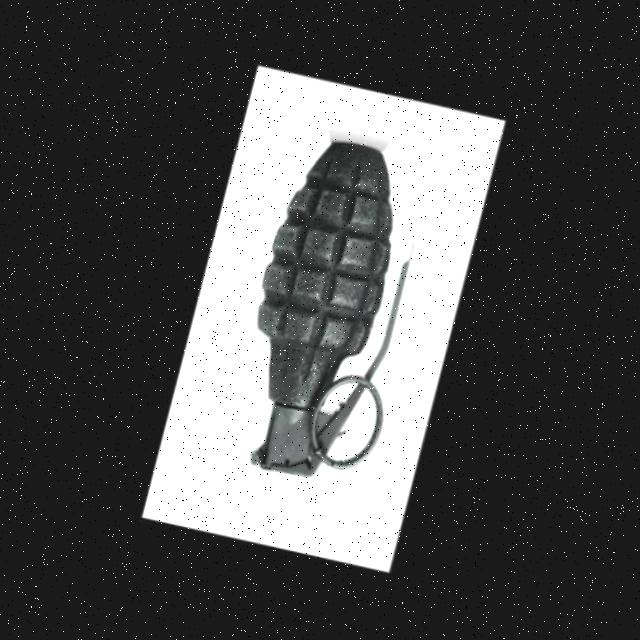grenade: (203, 108, 458, 535)
